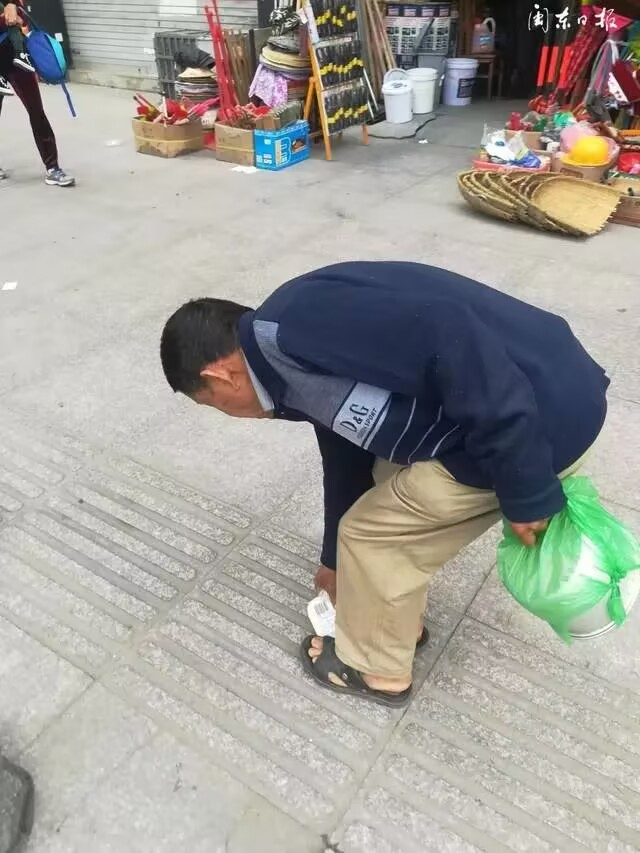bending: (139, 236, 621, 720)
